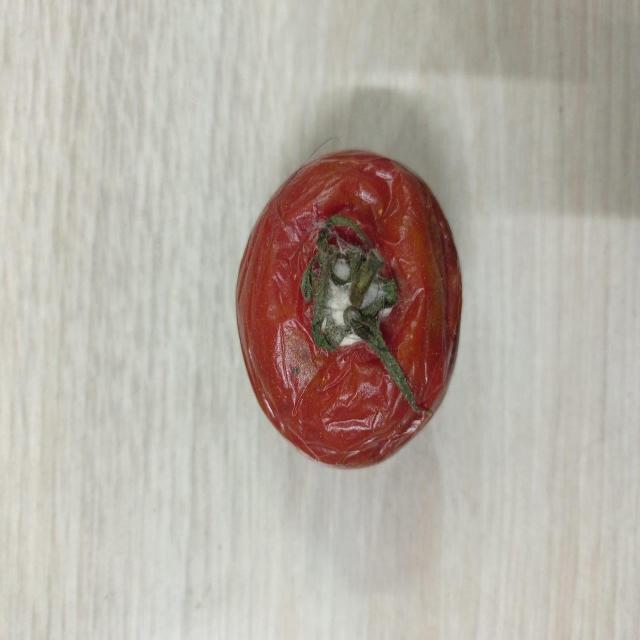Rotten: (234, 150, 463, 469)
